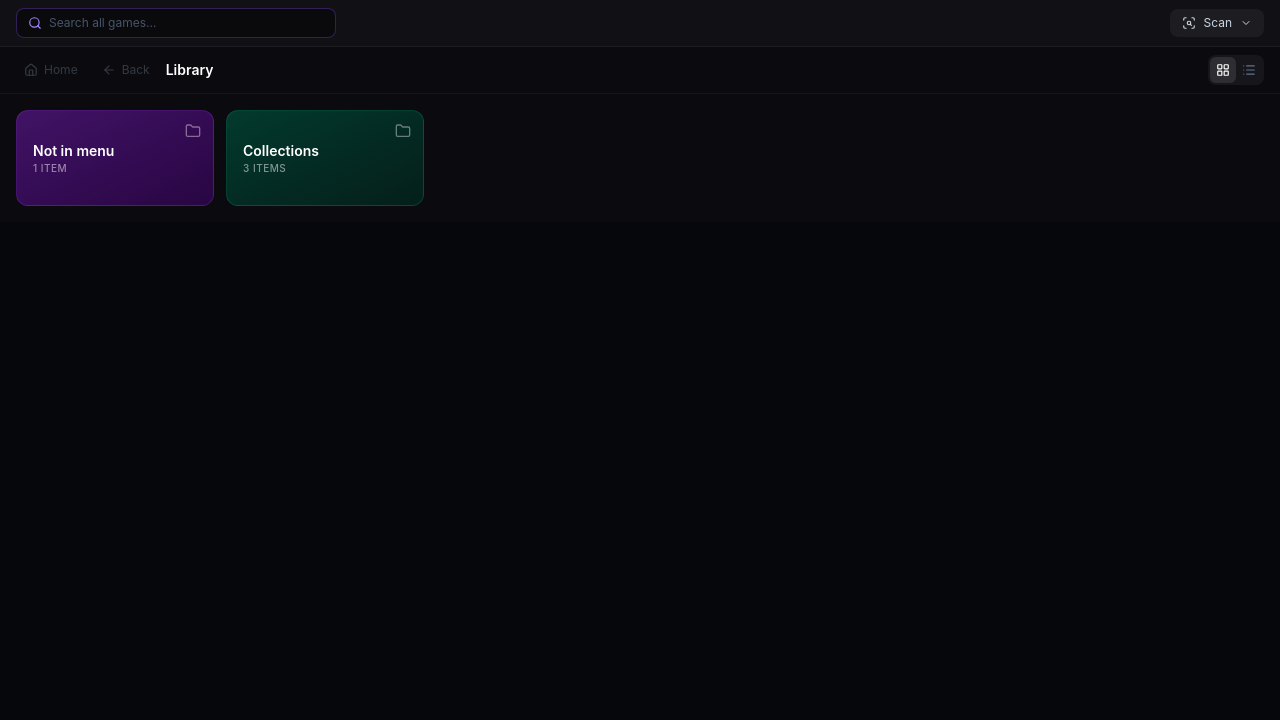
Test: Library smart filters › FR-LIB-9: delete asks and says how many menus show the filter
Click the button "Collections 3 items" at [325, 158], box [226,110,424,206]
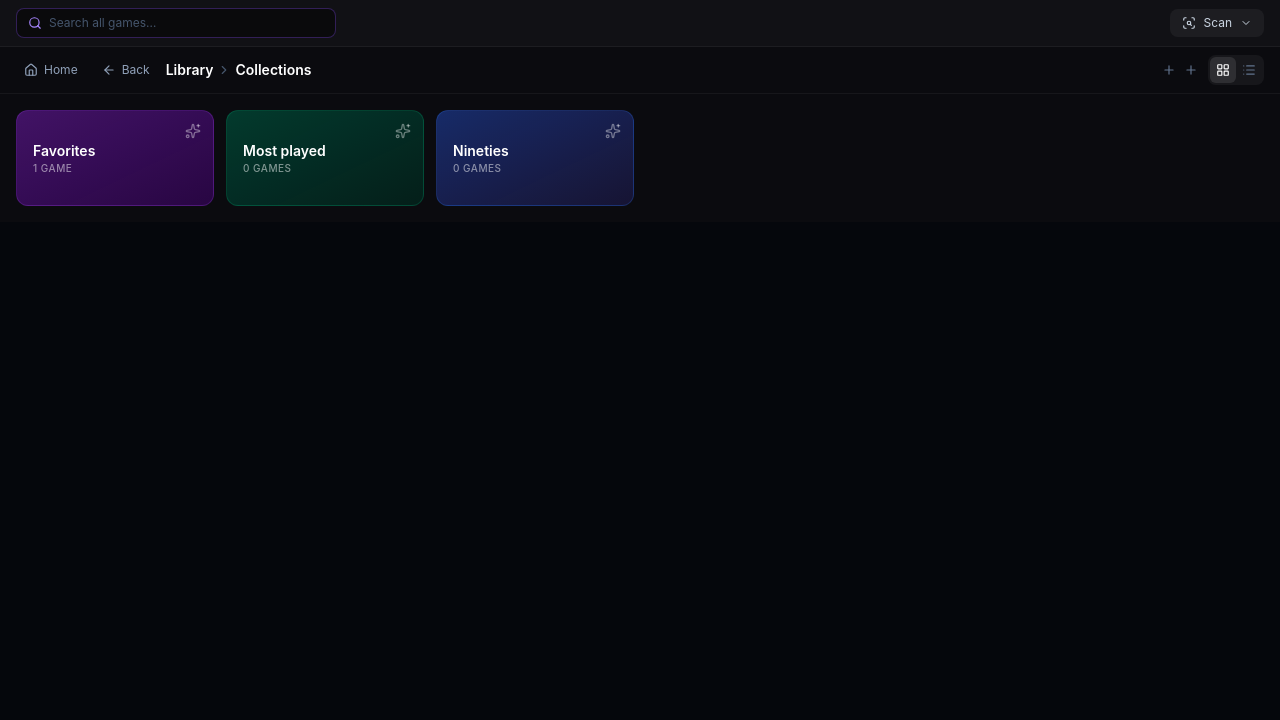
Click the button "Most played 0 games" at [325, 158], box [226,110,424,206]
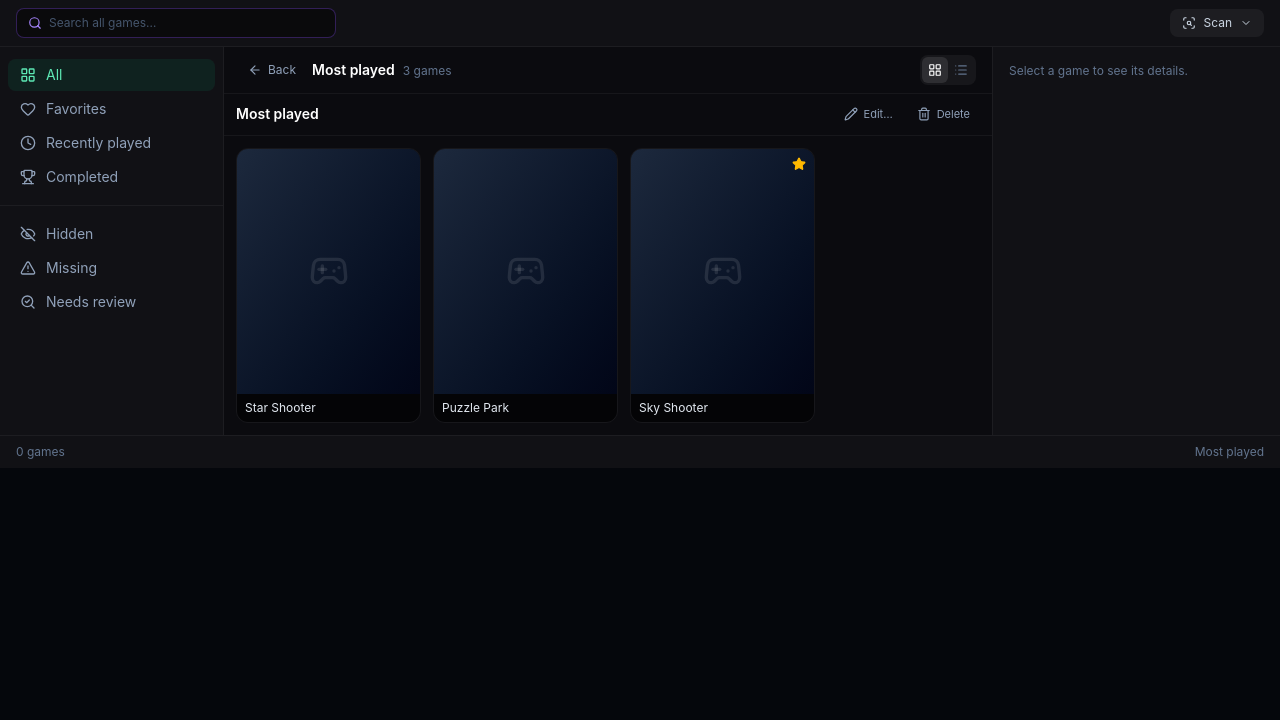
Click the button with aria-label "Delete smart filter" at [943, 114], box [907,102,980,126]
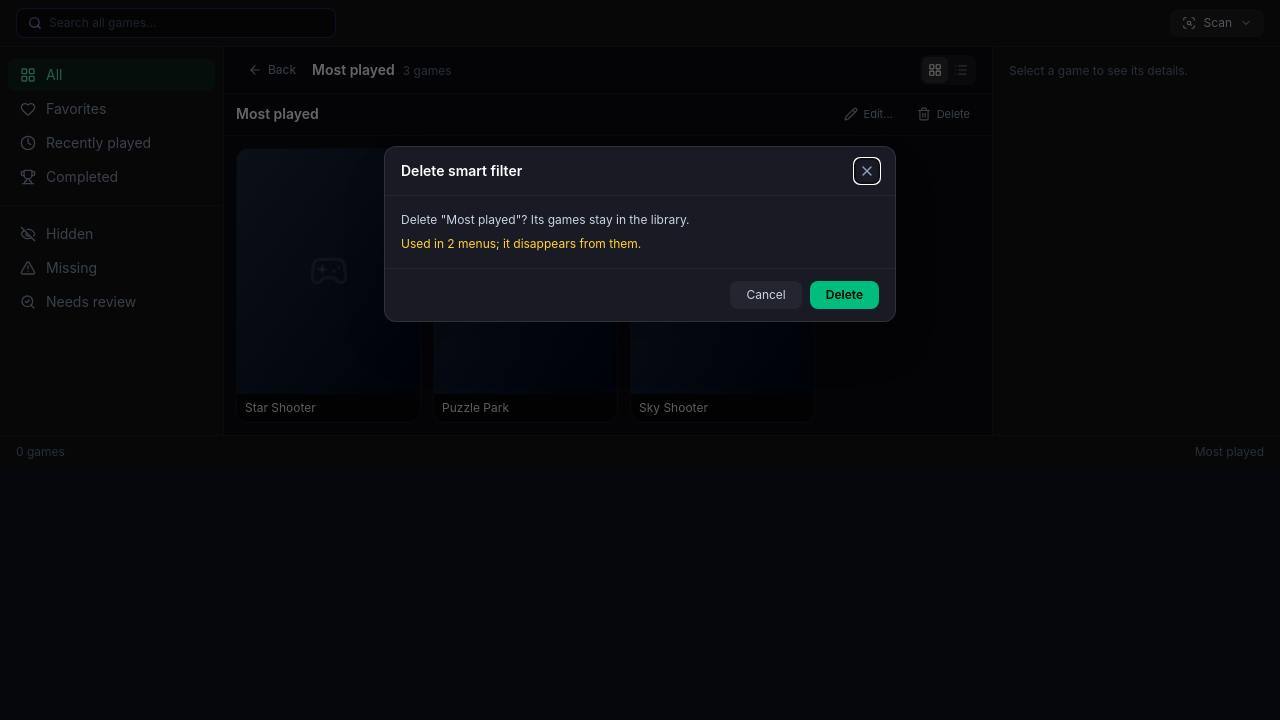
Check: the dialog "Delete smart filter" shows "Used in 2 menus", box [401,236,641,251]
Click the button "Delete" at [844, 295], box [810,281,879,309]
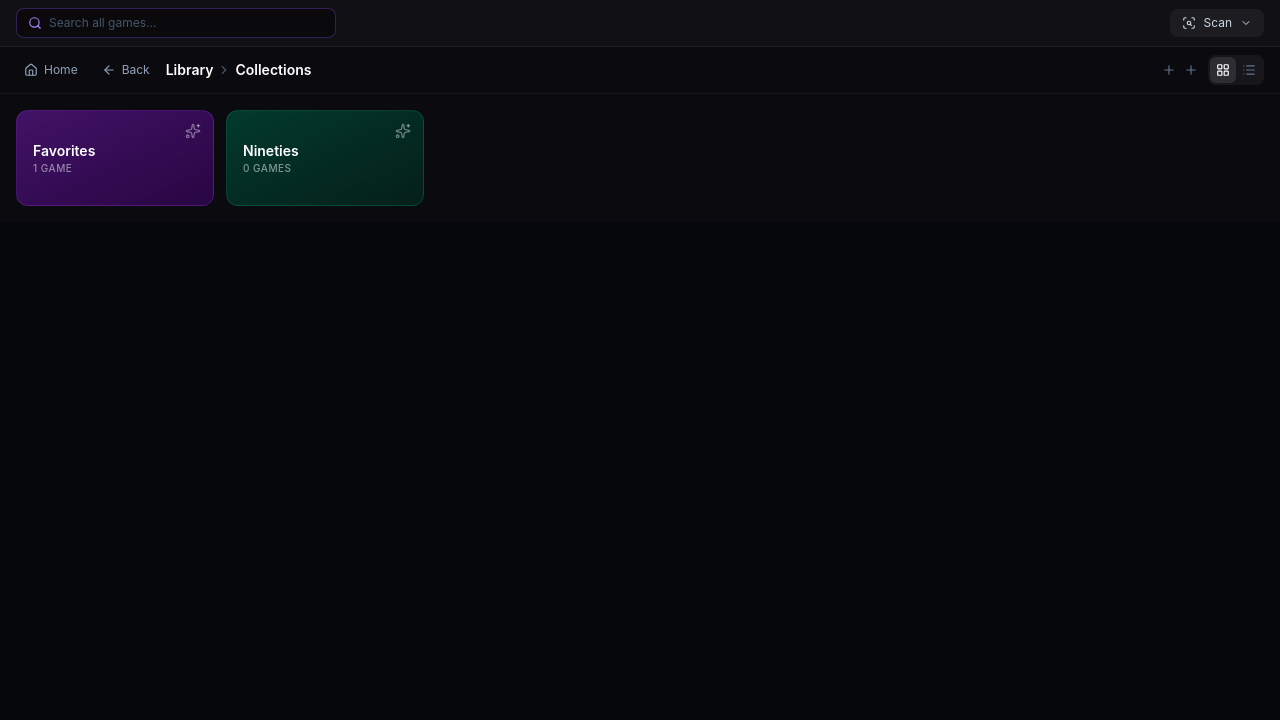
Check: the text "Most played" is gone
